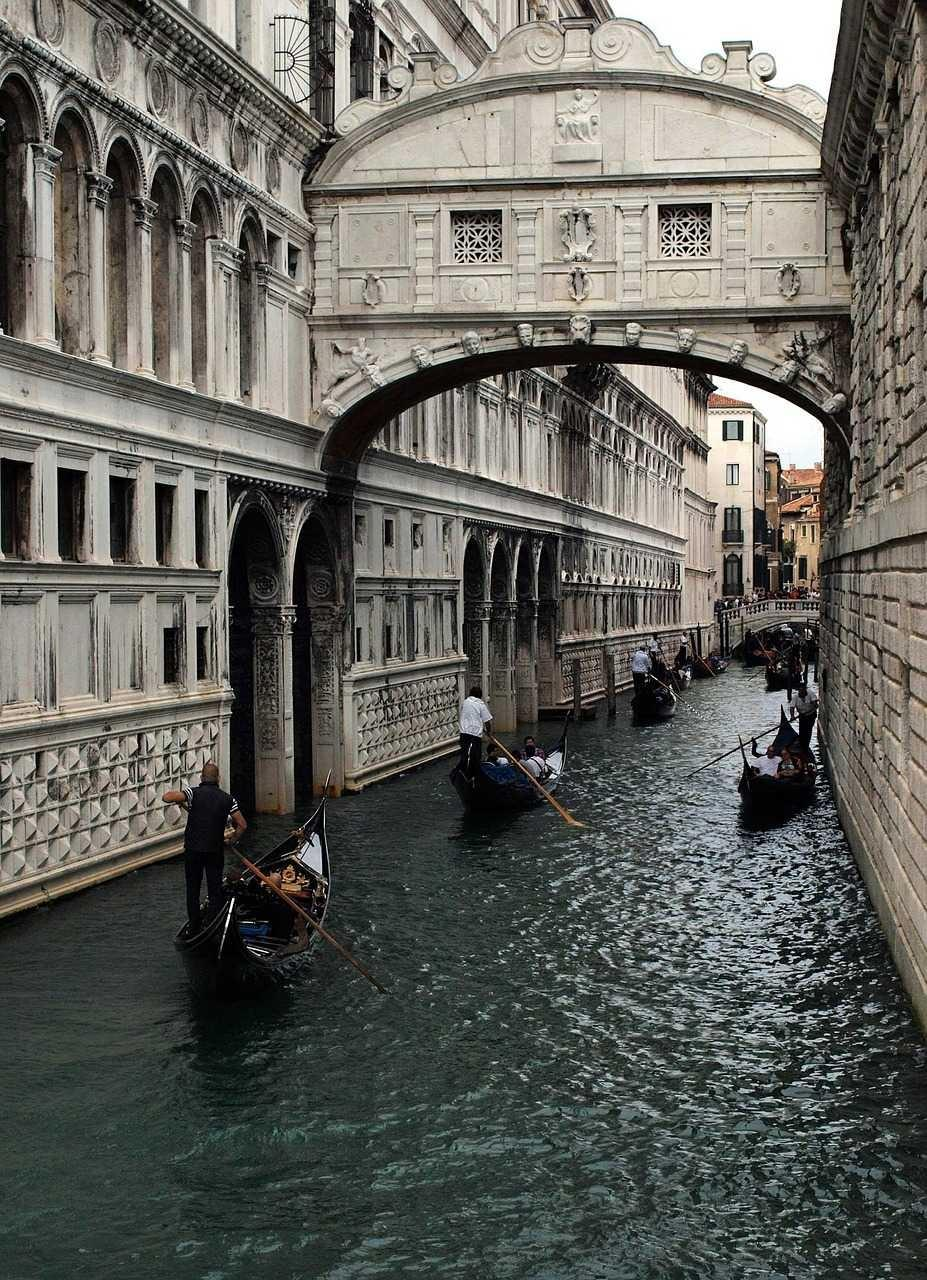kayak: (173, 799, 332, 1001), (449, 736, 564, 815), (738, 768, 817, 819), (632, 681, 677, 724), (764, 662, 804, 693)
